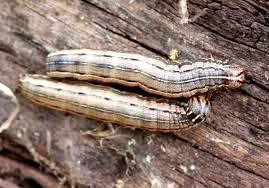Caterpillar: (17, 72, 211, 132), (44, 50, 252, 99)
